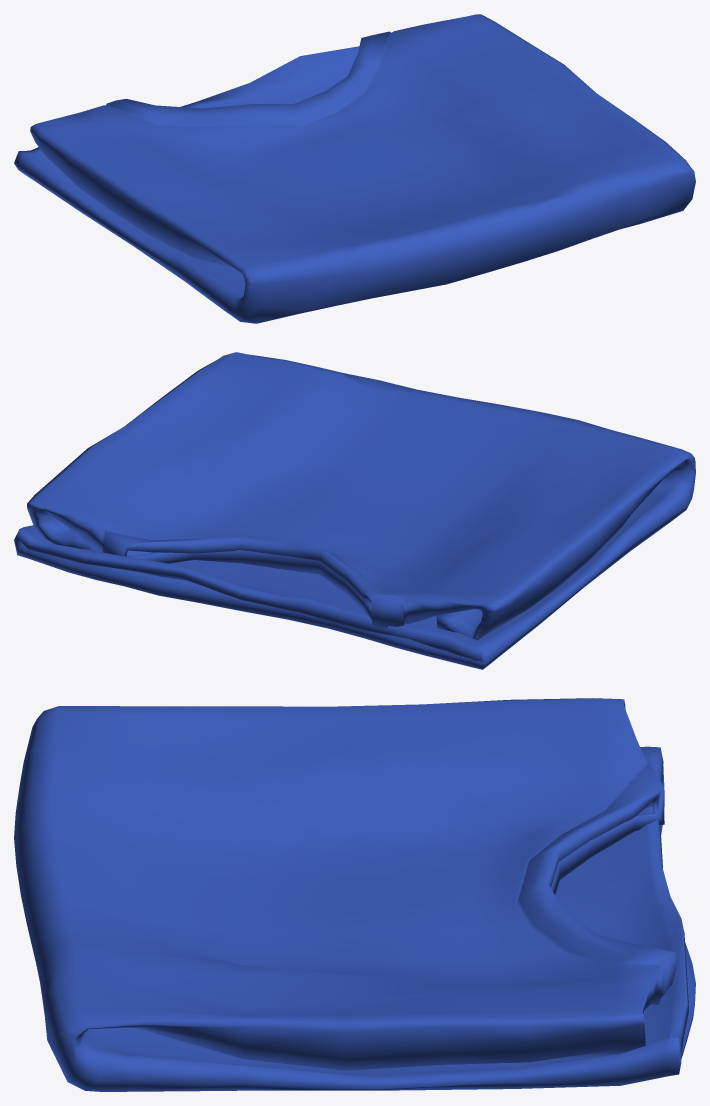
The model's file is T-shirt.fbx.
3 views of the same model, one above another, from view 1: azimuth 30°, elevation 25°; view 2: azimuth 150°, elevation 25°; view 3: azimuth 270°, elevation 25° (orthographic). The views are drawn at different scales.
Parts seen in each view (by area): view 1: jiazi03_shangyi07; view 2: jiazi03_shangyi07; view 3: jiazi03_shangyi07.
Part boxes in pixels (<box>): jiazi03_shangyi07: <box>14,14,695,323</box>; jiazi03_shangyi07: <box>14,352,695,669</box>; jiazi03_shangyi07: <box>14,698,695,1091</box>.
Size of the model in its own units: 3696 by 420 by 3280.
